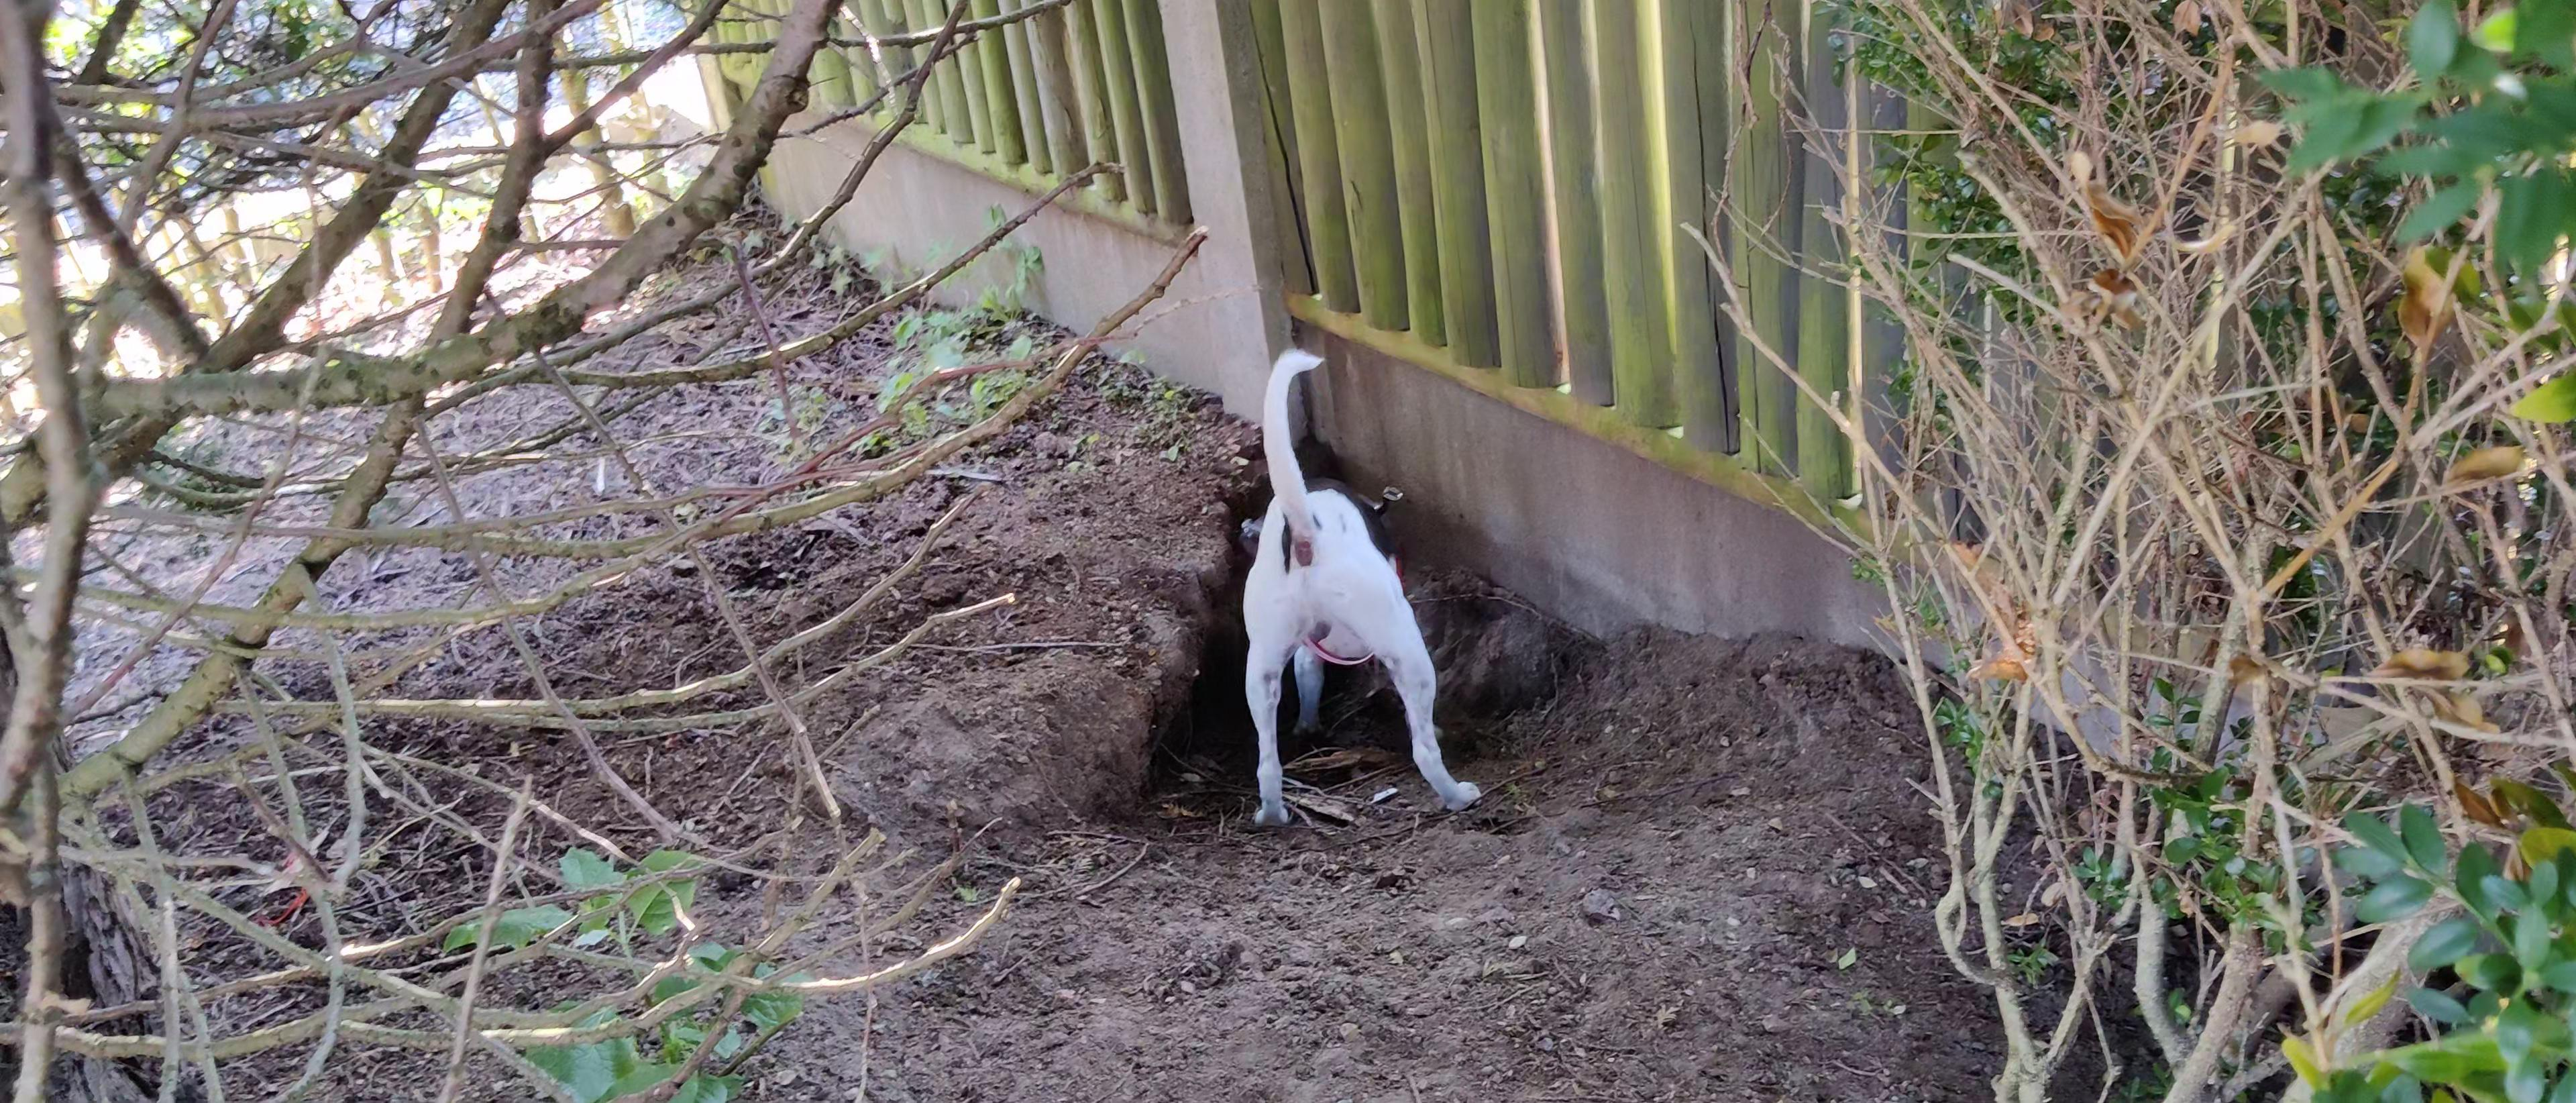Dog: (1201, 334, 1518, 855)
